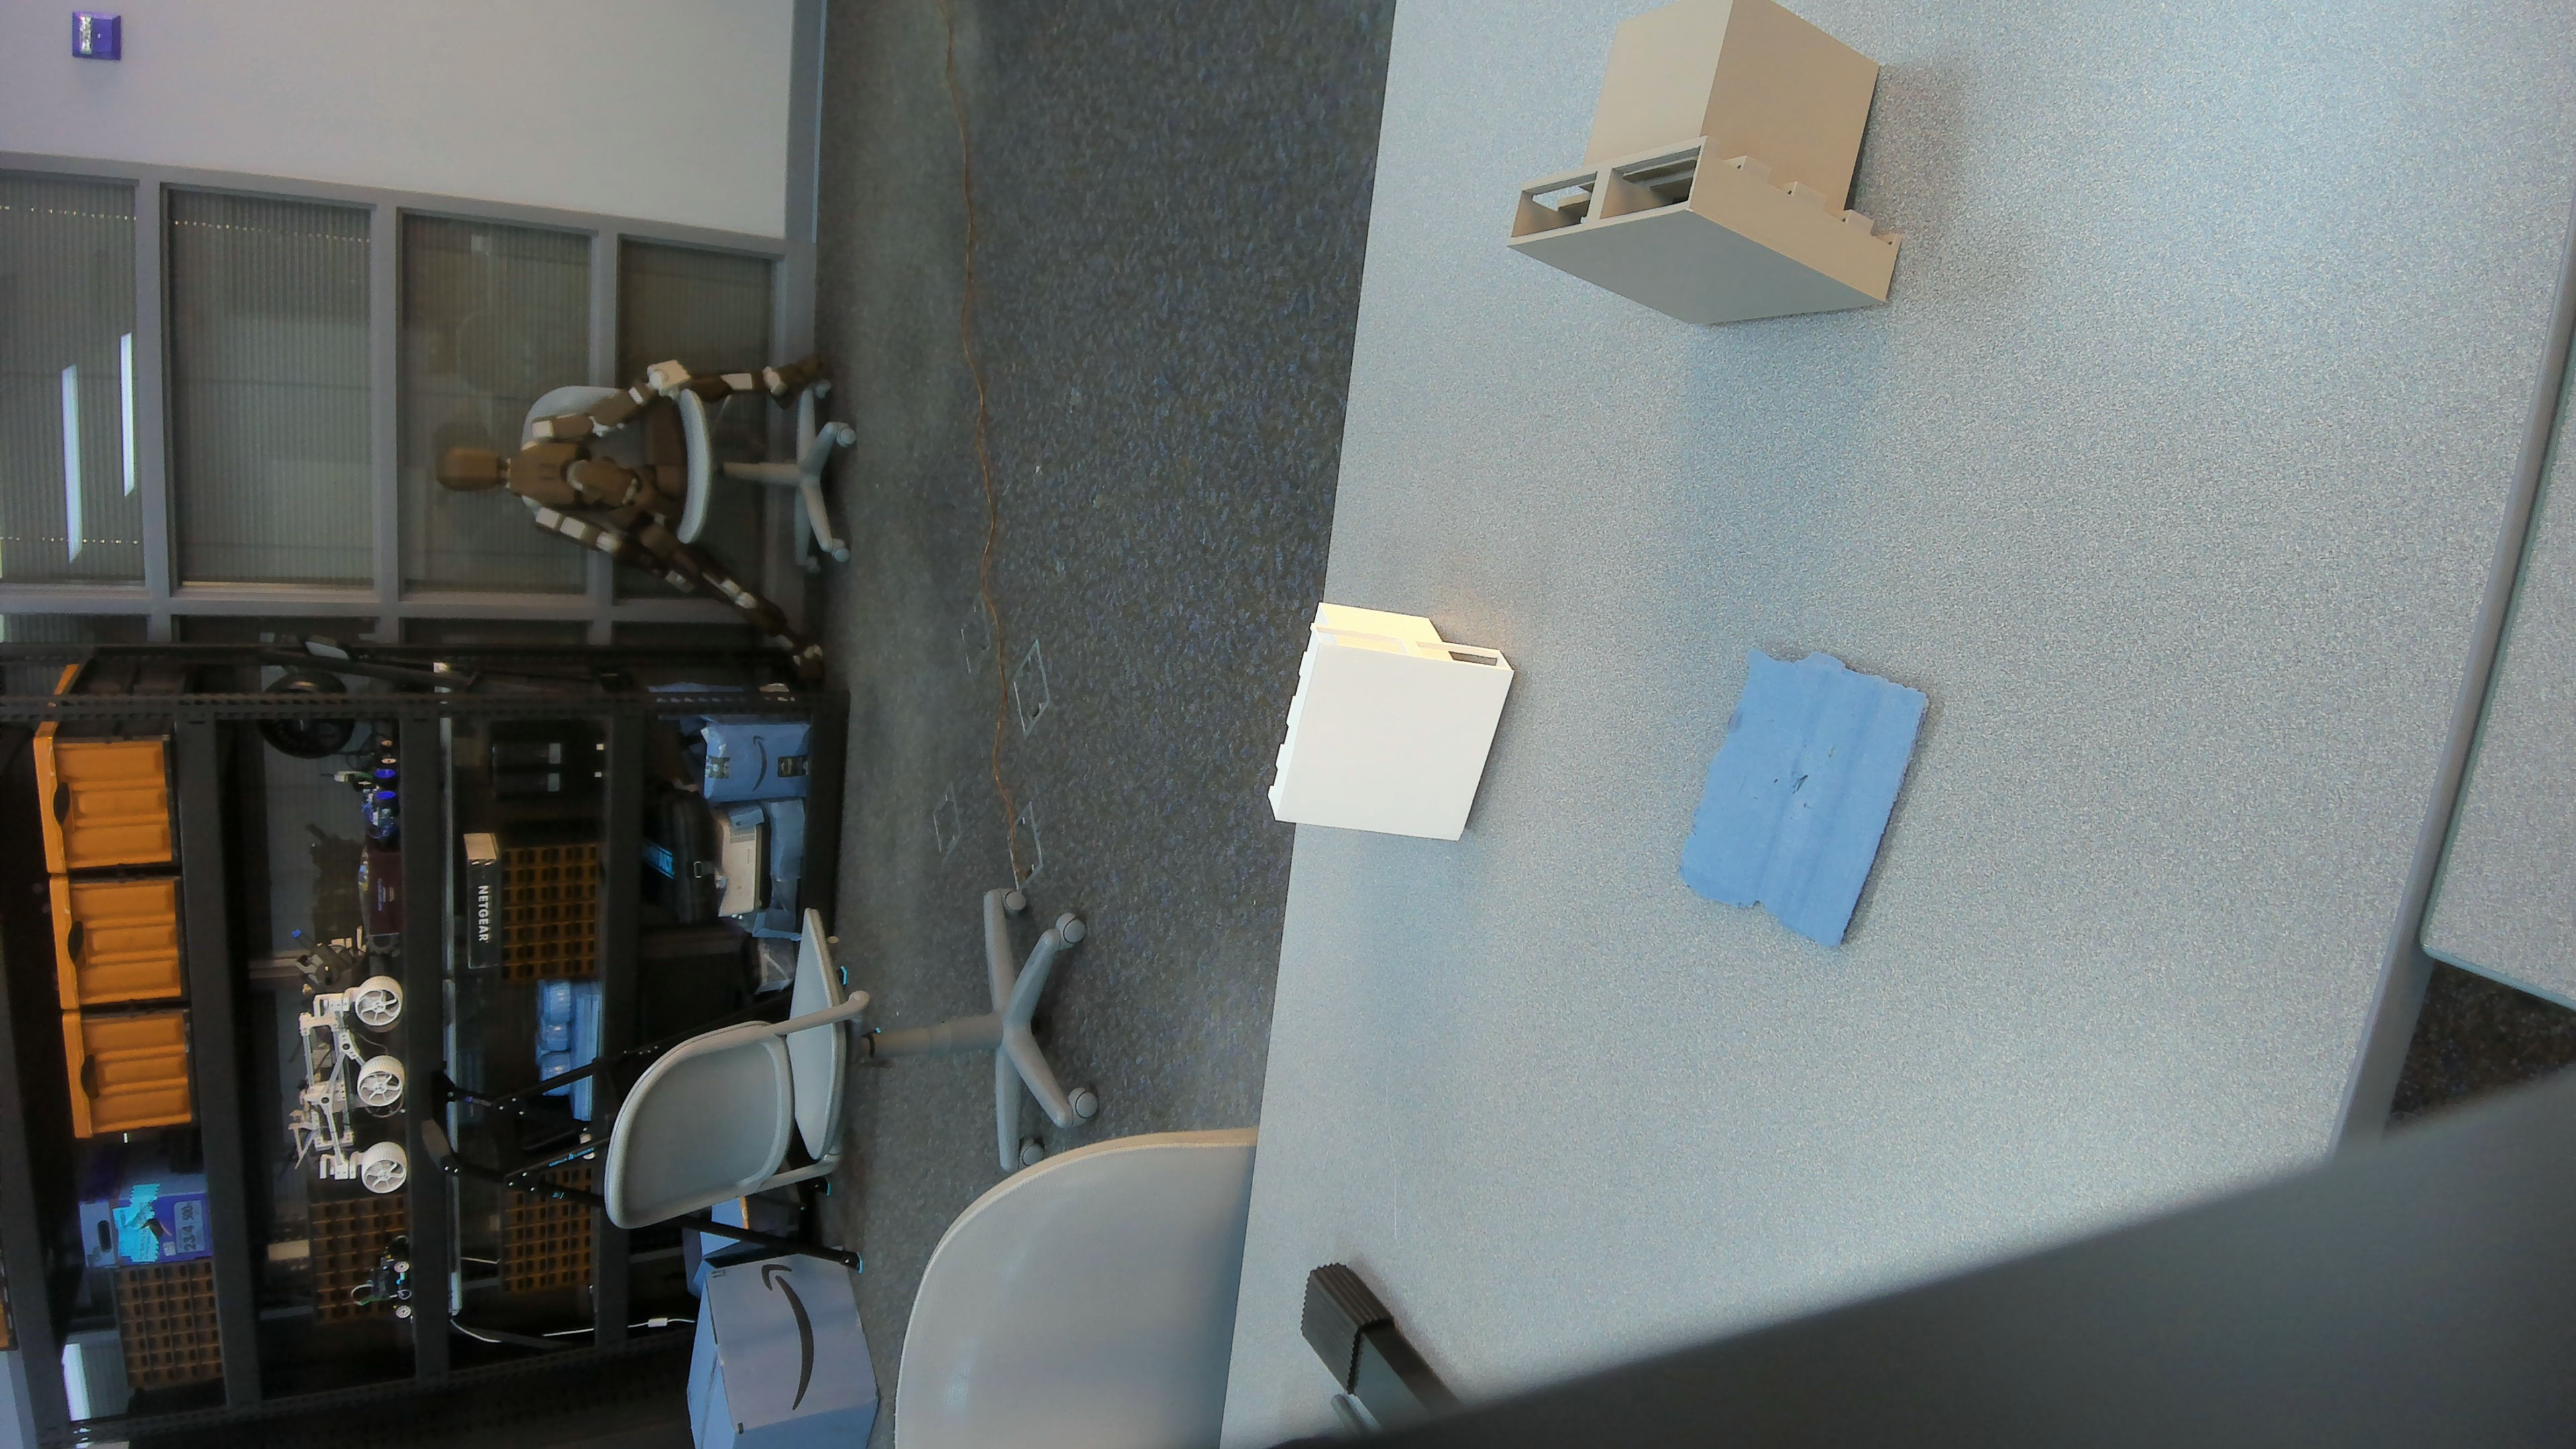grey pallet: (1495, 5, 1918, 347)
white pallet: (1253, 602, 1523, 858)
